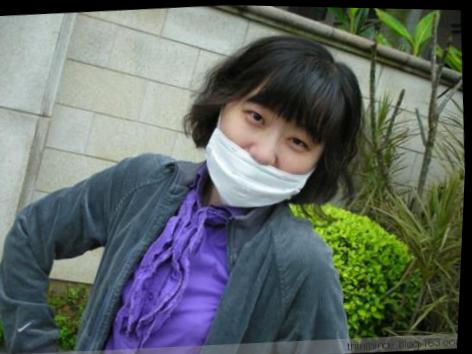WRONG: (203, 94, 318, 207)
